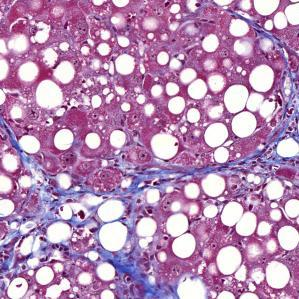fibrosis: (23, 177, 109, 244), (120, 260, 167, 297)
